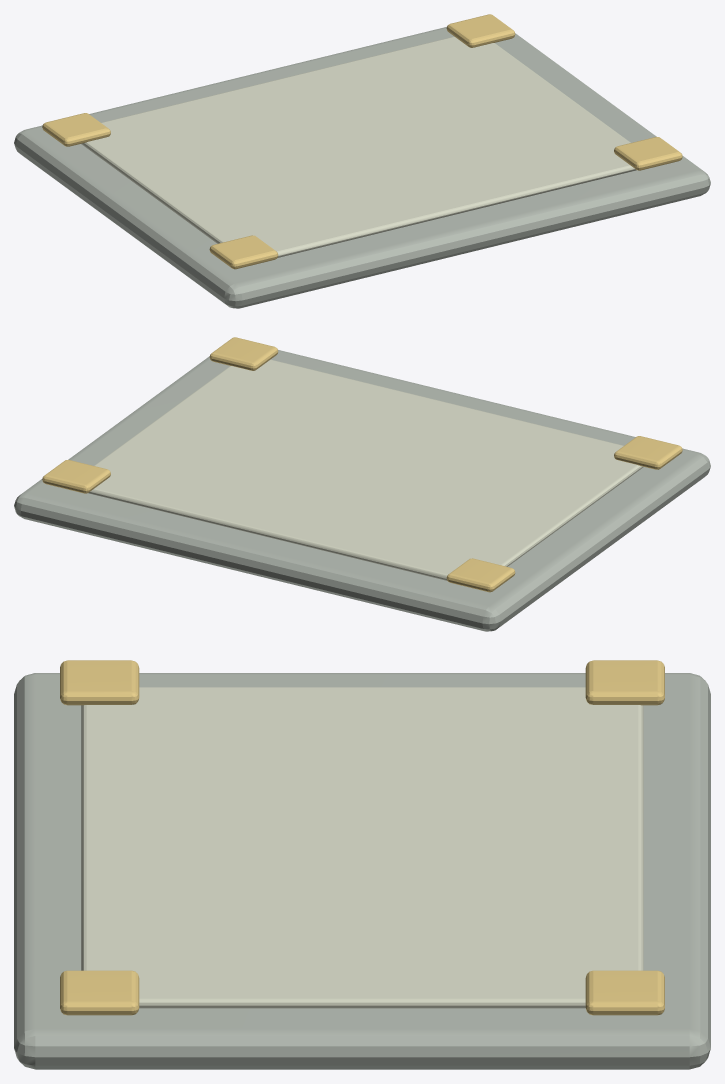
Rendered from station_pad.glb.
The picture shows the model from 3 angles, top to bottom: view 1: azimuth 30°, elevation 25°; view 2: azimuth 150°, elevation 25°; view 3: azimuth 270°, elevation 25°; orthographic projection. The views are drawn at different scales.
Visible parts, largest first — view 1: Surface_WorldIvory, Surface_WorldStone, Surface_WorldBrass; view 2: Surface_WorldIvory, Surface_WorldStone, Surface_WorldBrass; view 3: Surface_WorldIvory, Surface_WorldStone, Surface_WorldBrass.
Part boxes in pixels (x1,y1,x2,y2): Surface_WorldIvory: (81, 36, 636, 257); Surface_WorldStone: (14, 27, 710, 308); Surface_WorldBrass: (42, 14, 682, 269); Surface_WorldIvory: (88, 359, 643, 580); Surface_WorldStone: (14, 350, 710, 631); Surface_WorldBrass: (42, 337, 682, 592); Surface_WorldIvory: (81, 687, 643, 1008); Surface_WorldStone: (14, 673, 710, 1069); Surface_WorldBrass: (60, 660, 664, 1015).
Size of the model in its own units: 1.44 by 0.1075 by 1.14.
